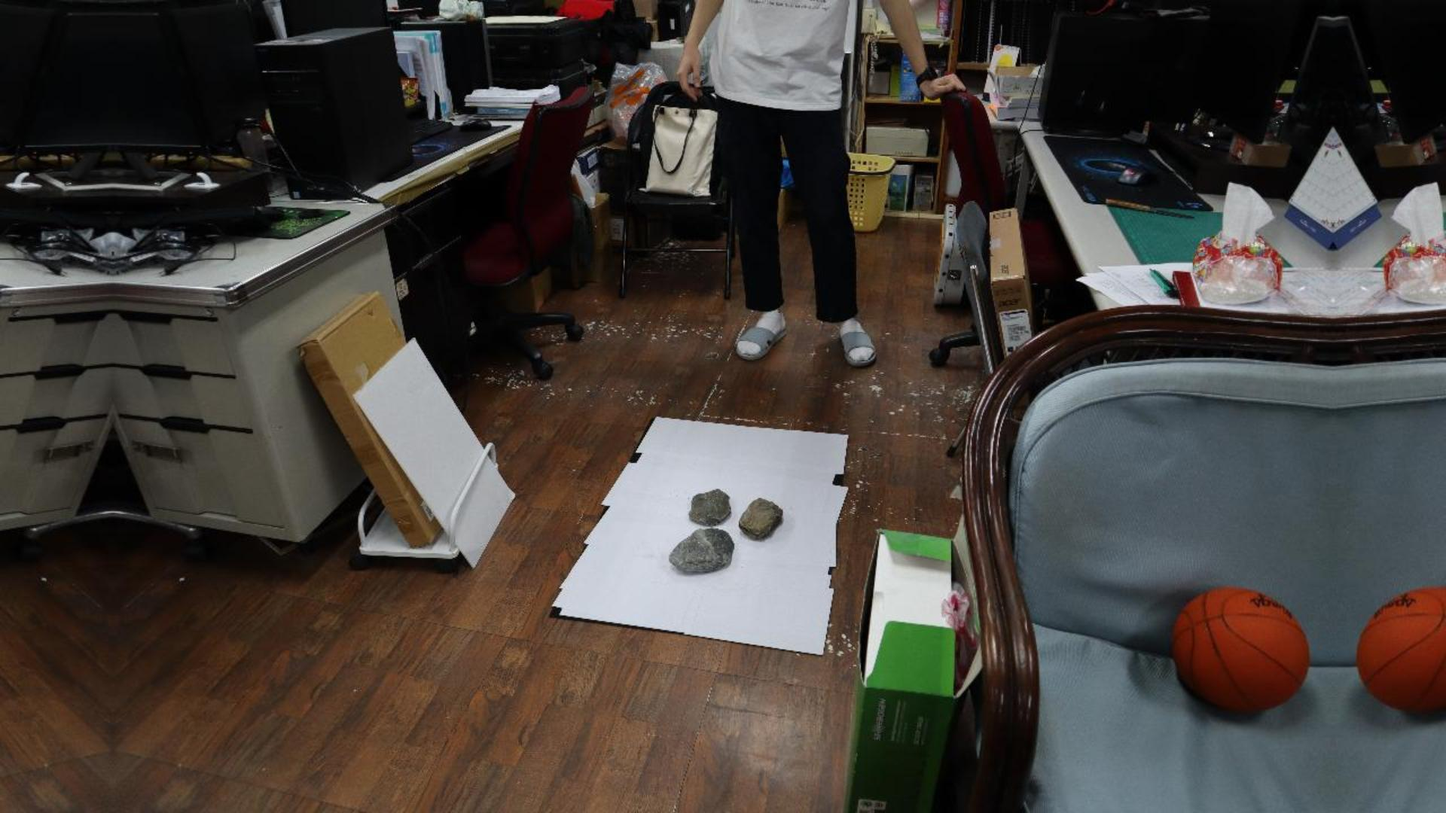rock: (669, 527, 733, 574), (739, 498, 782, 539), (689, 489, 731, 525)
